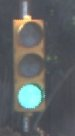Green: (9, 16, 56, 121)
